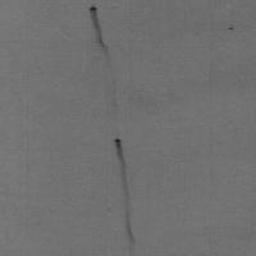Inclusion: (88, 5, 119, 88), (113, 137, 137, 244), (227, 24, 236, 31)
